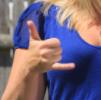clockwise: (25, 20, 73, 73)
